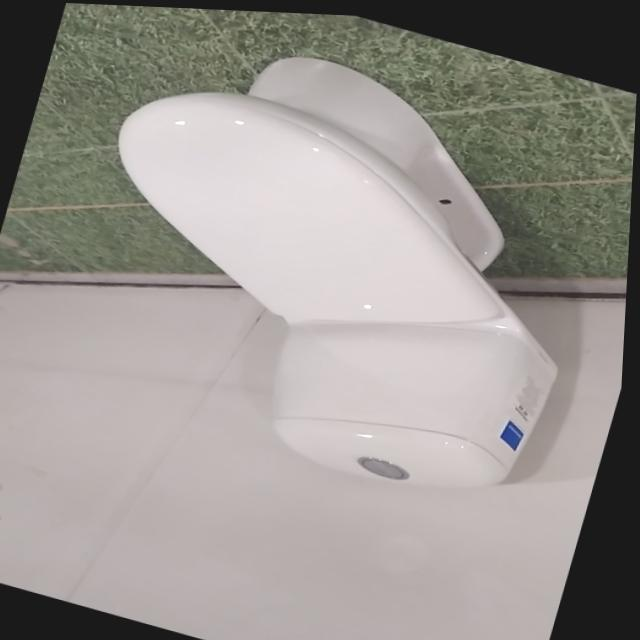toilet: (44, 6, 630, 519)
